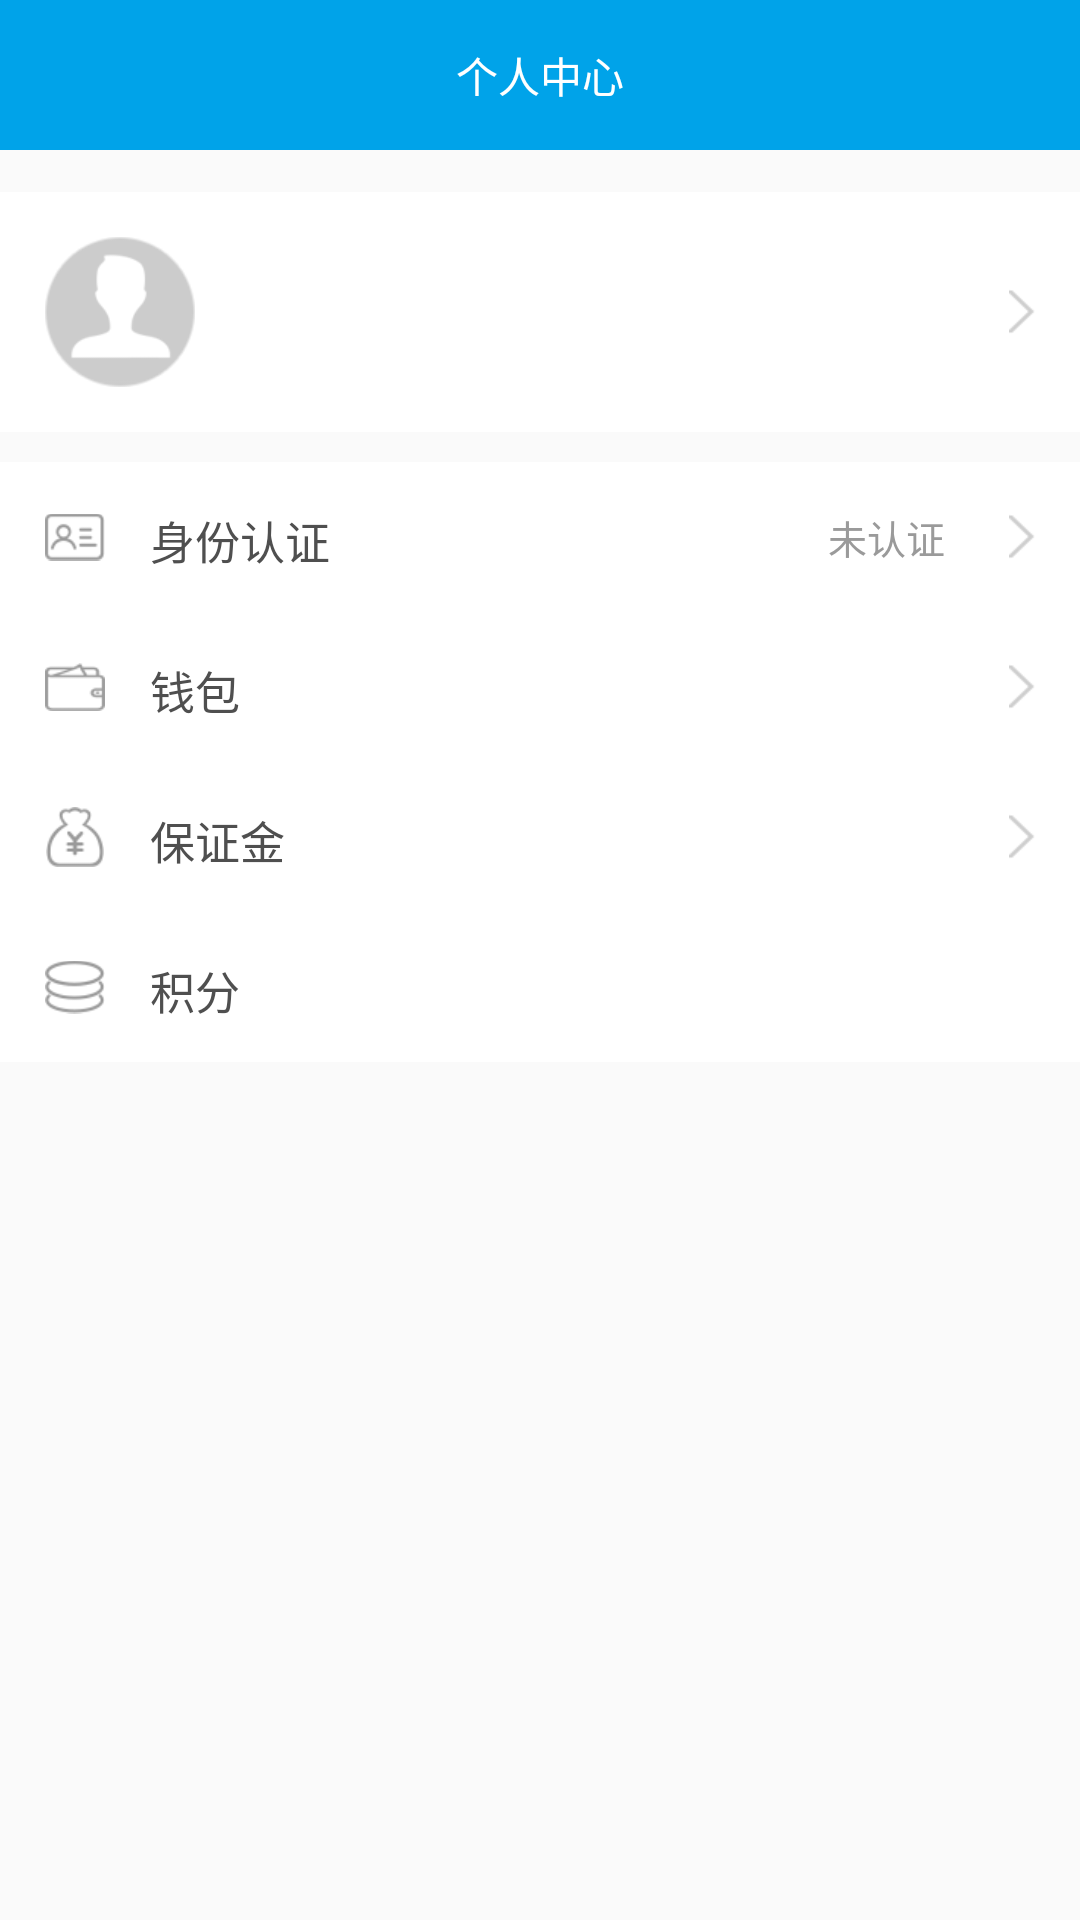

Screen size 1080w x 1920h. Icon name, then its box in pixels as (x1=x1, y1=y1, x2=x2, y2=y2):
arrow: (x1=1009, y1=290, x2=1033, y2=333), (x1=1009, y1=515, x2=1033, y2=558), (x1=1009, y1=665, x2=1033, y2=708), (x1=1009, y1=815, x2=1033, y2=858)
mine bzj: (x1=46, y1=807, x2=104, y2=867)
mine jifen: (x1=45, y1=961, x2=104, y2=1014)
mine pic touxiang: (x1=45, y1=237, x2=195, y2=387)
mine qianbao: (x1=45, y1=663, x2=105, y2=711)
mine shengfen: (x1=45, y1=514, x2=104, y2=561)
